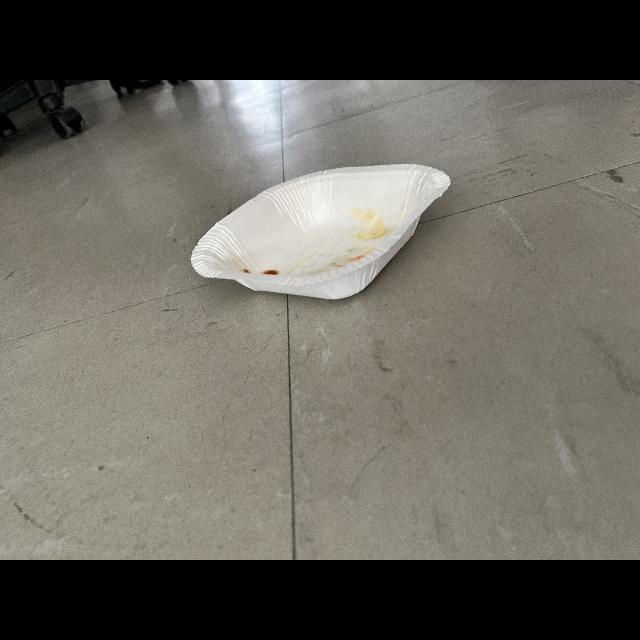cardboard_bowl: (183, 158, 457, 306)
